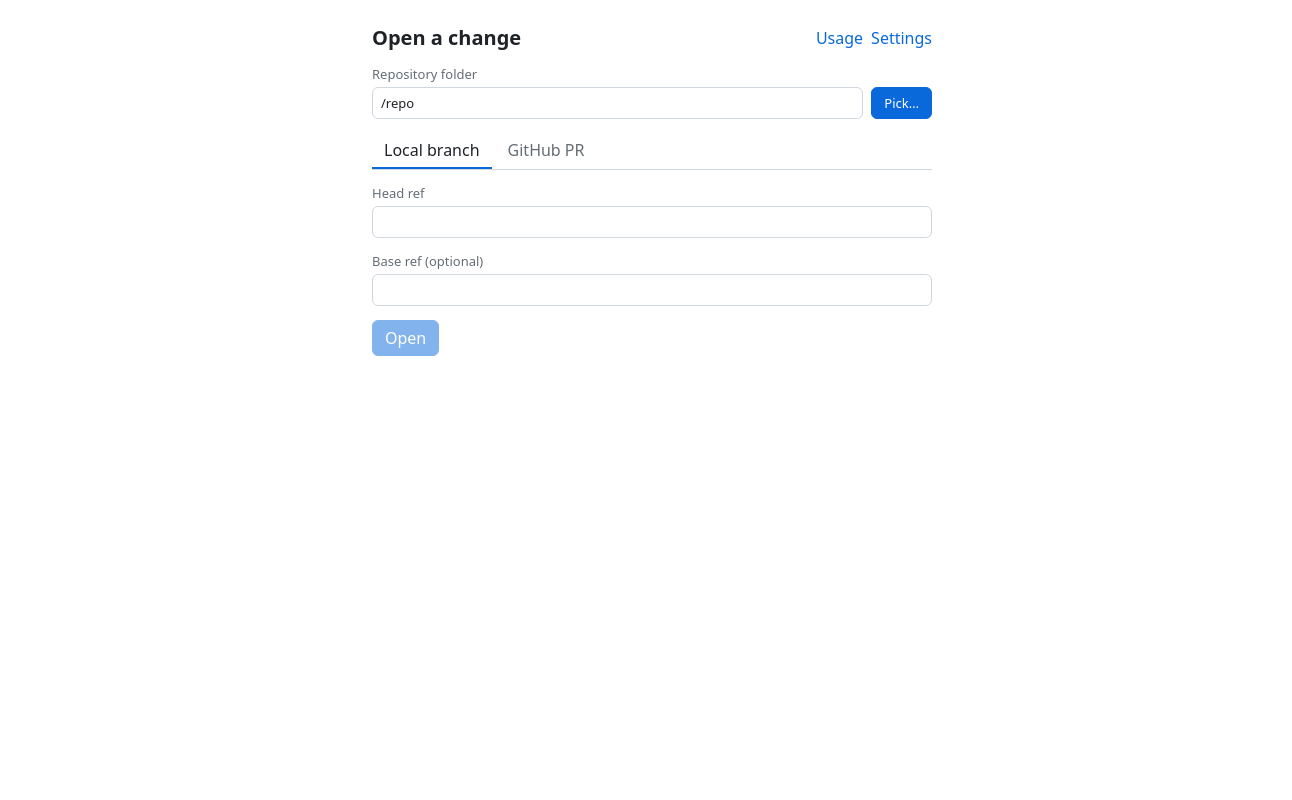
Test: screens › warns when over the limit and Generate still works
Step 1. Type "feature" into the field labelled "Head ref" → (652, 222), box [372,206,932,238]
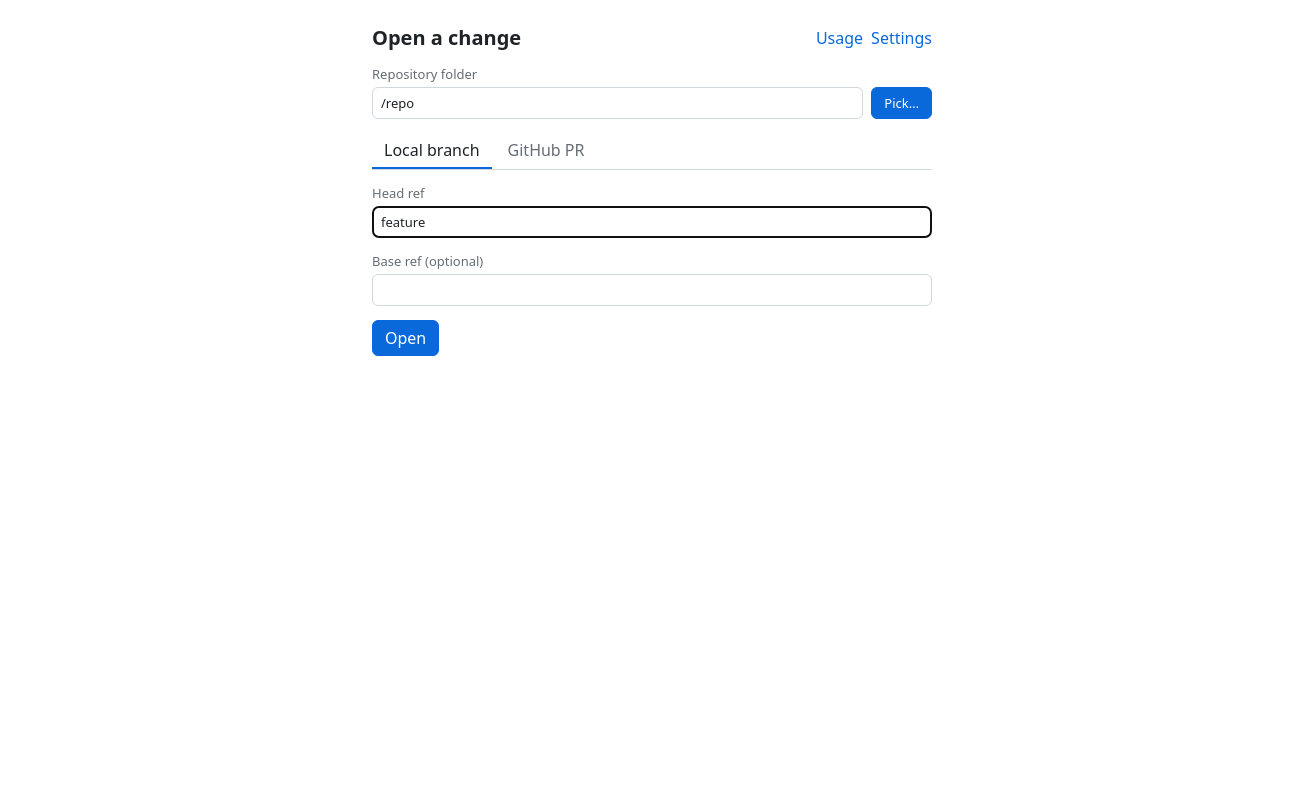
Step 2. Click the button "Open" → (406, 338), box [372,320,439,356]
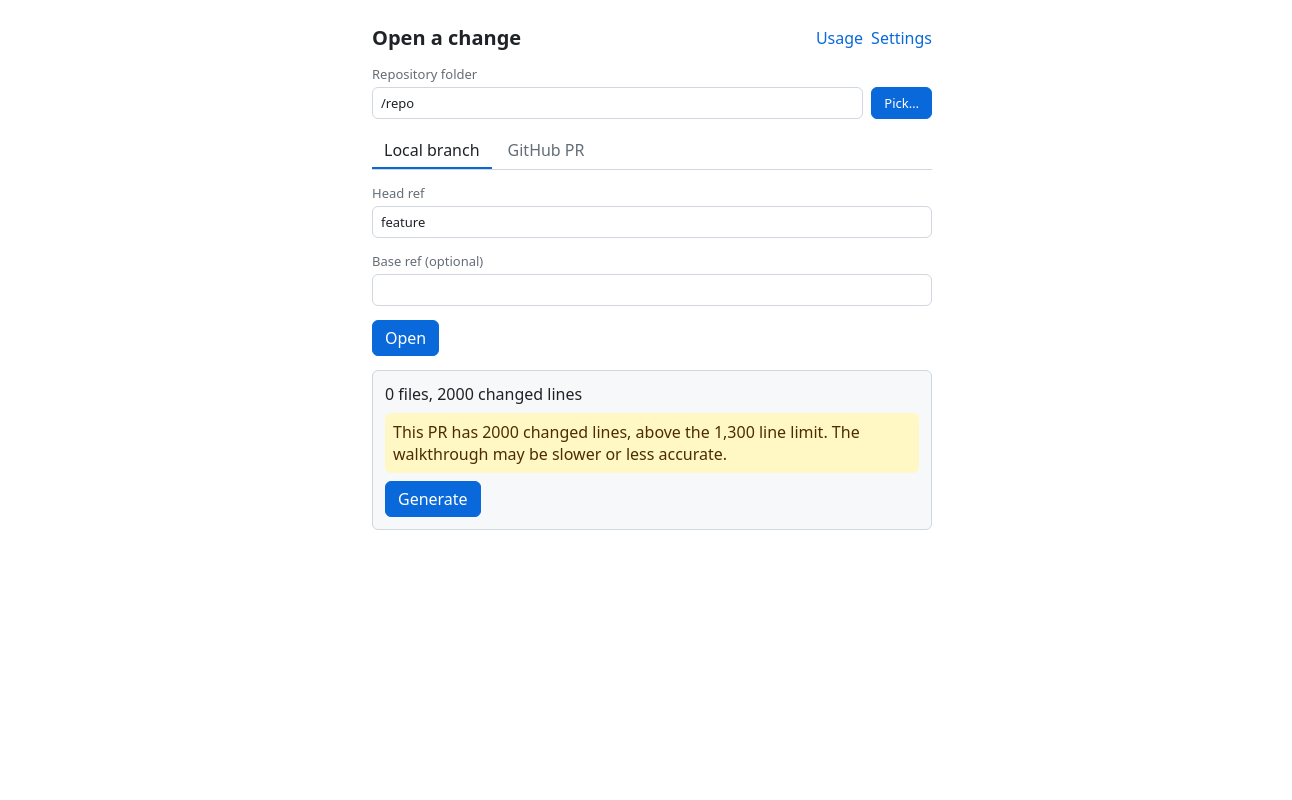
expect the text "This PR has 2000 changed lines, above the 1,300 line limit. The walkthrough may be slower or less accurate." is shown: met, box [393,421,860,465]
Step 3. Click the button "Generate" → (433, 499), box [385,481,481,517]
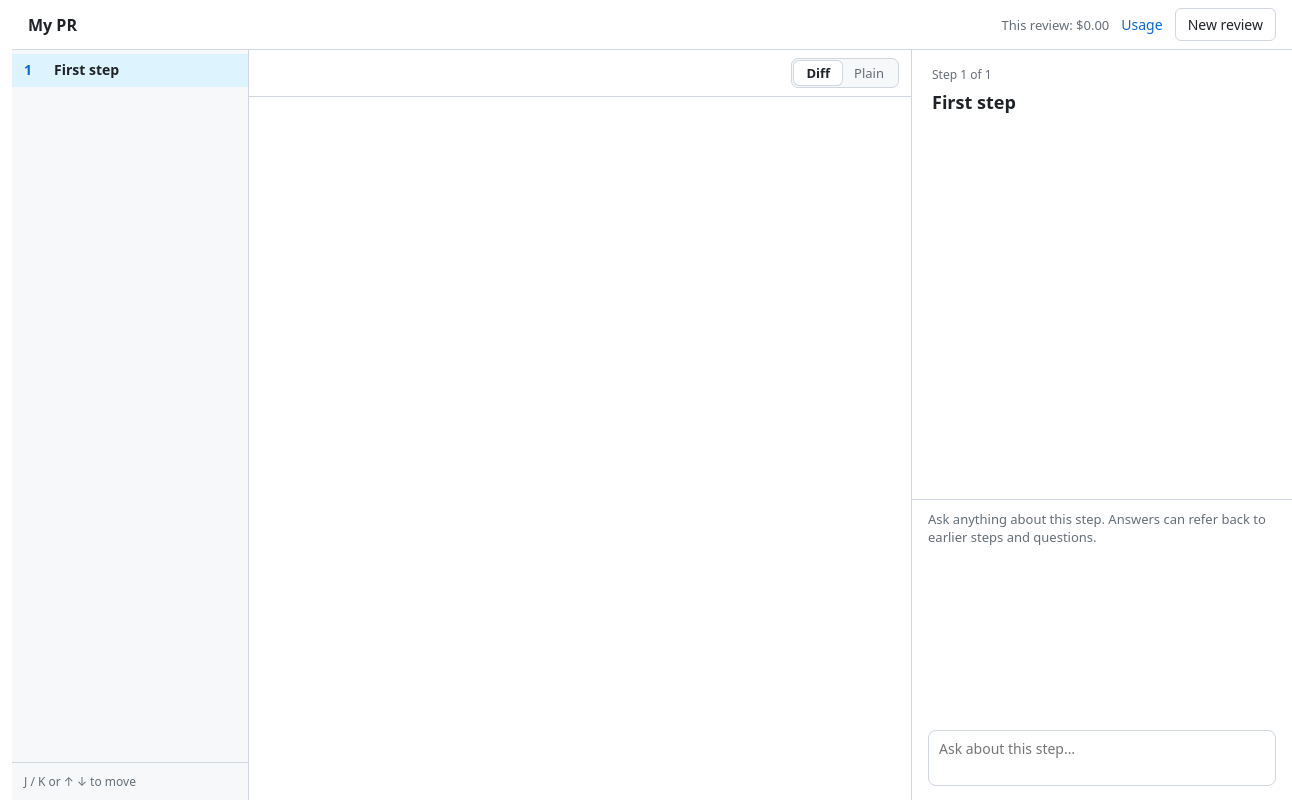
expect the text "Step 1 of 1" is shown: met, box [932,66,992,83]
